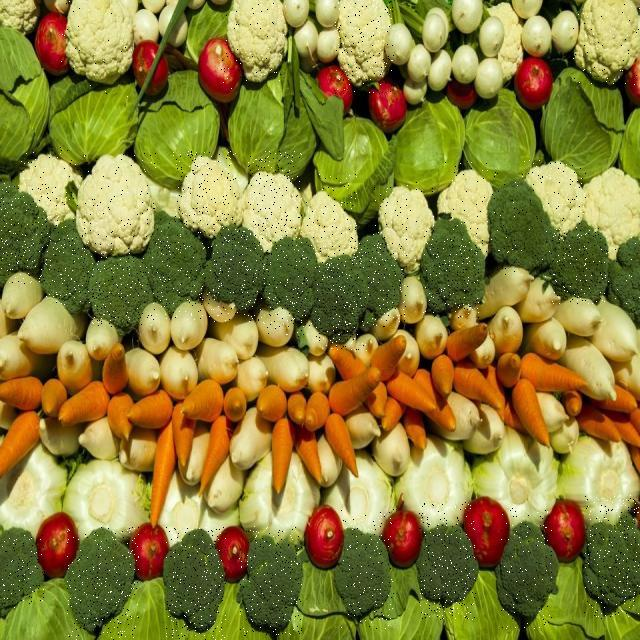Broccoli: (67, 527, 139, 640), (584, 495, 640, 619), (239, 526, 302, 636), (166, 527, 226, 640), (419, 502, 476, 620), (339, 509, 394, 629), (501, 508, 552, 629), (490, 182, 553, 278), (203, 230, 263, 322), (151, 219, 205, 320), (315, 251, 369, 351), (263, 232, 312, 337), (424, 228, 479, 318), (0, 183, 49, 284), (356, 239, 408, 328), (92, 253, 152, 328), (552, 228, 610, 304), (46, 230, 95, 307), (2, 535, 44, 608), (615, 234, 640, 314)
Cauliflower: (75, 153, 156, 268), (61, 0, 135, 97), (220, 0, 291, 90), (441, 161, 498, 262), (572, 3, 640, 86), (334, 0, 394, 94), (21, 147, 86, 232), (248, 151, 302, 251), (173, 151, 236, 235), (522, 160, 587, 238), (372, 182, 435, 260), (306, 173, 357, 257)
